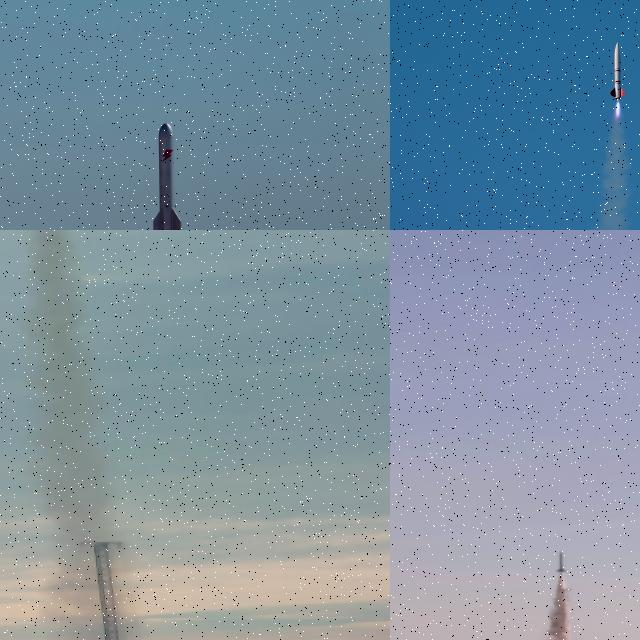Rocket: (147, 113, 187, 230), (610, 42, 626, 100), (556, 552, 567, 572)
